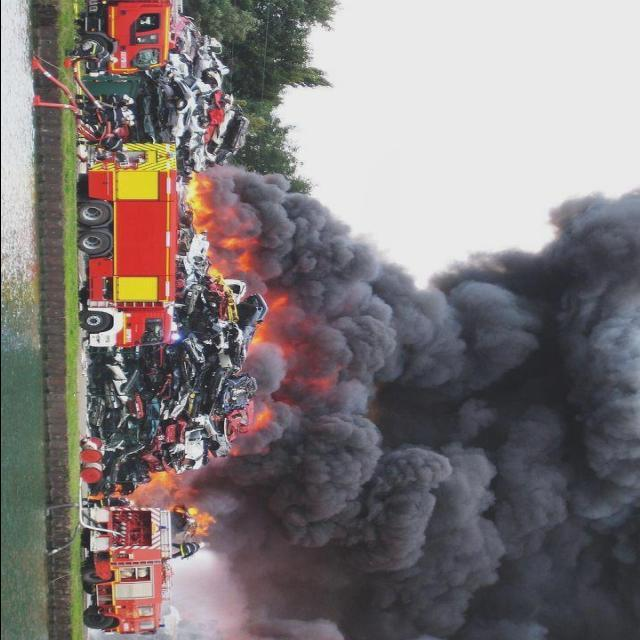Fire: (180, 165, 262, 285), (114, 471, 222, 536), (236, 294, 302, 362), (218, 400, 276, 462)
